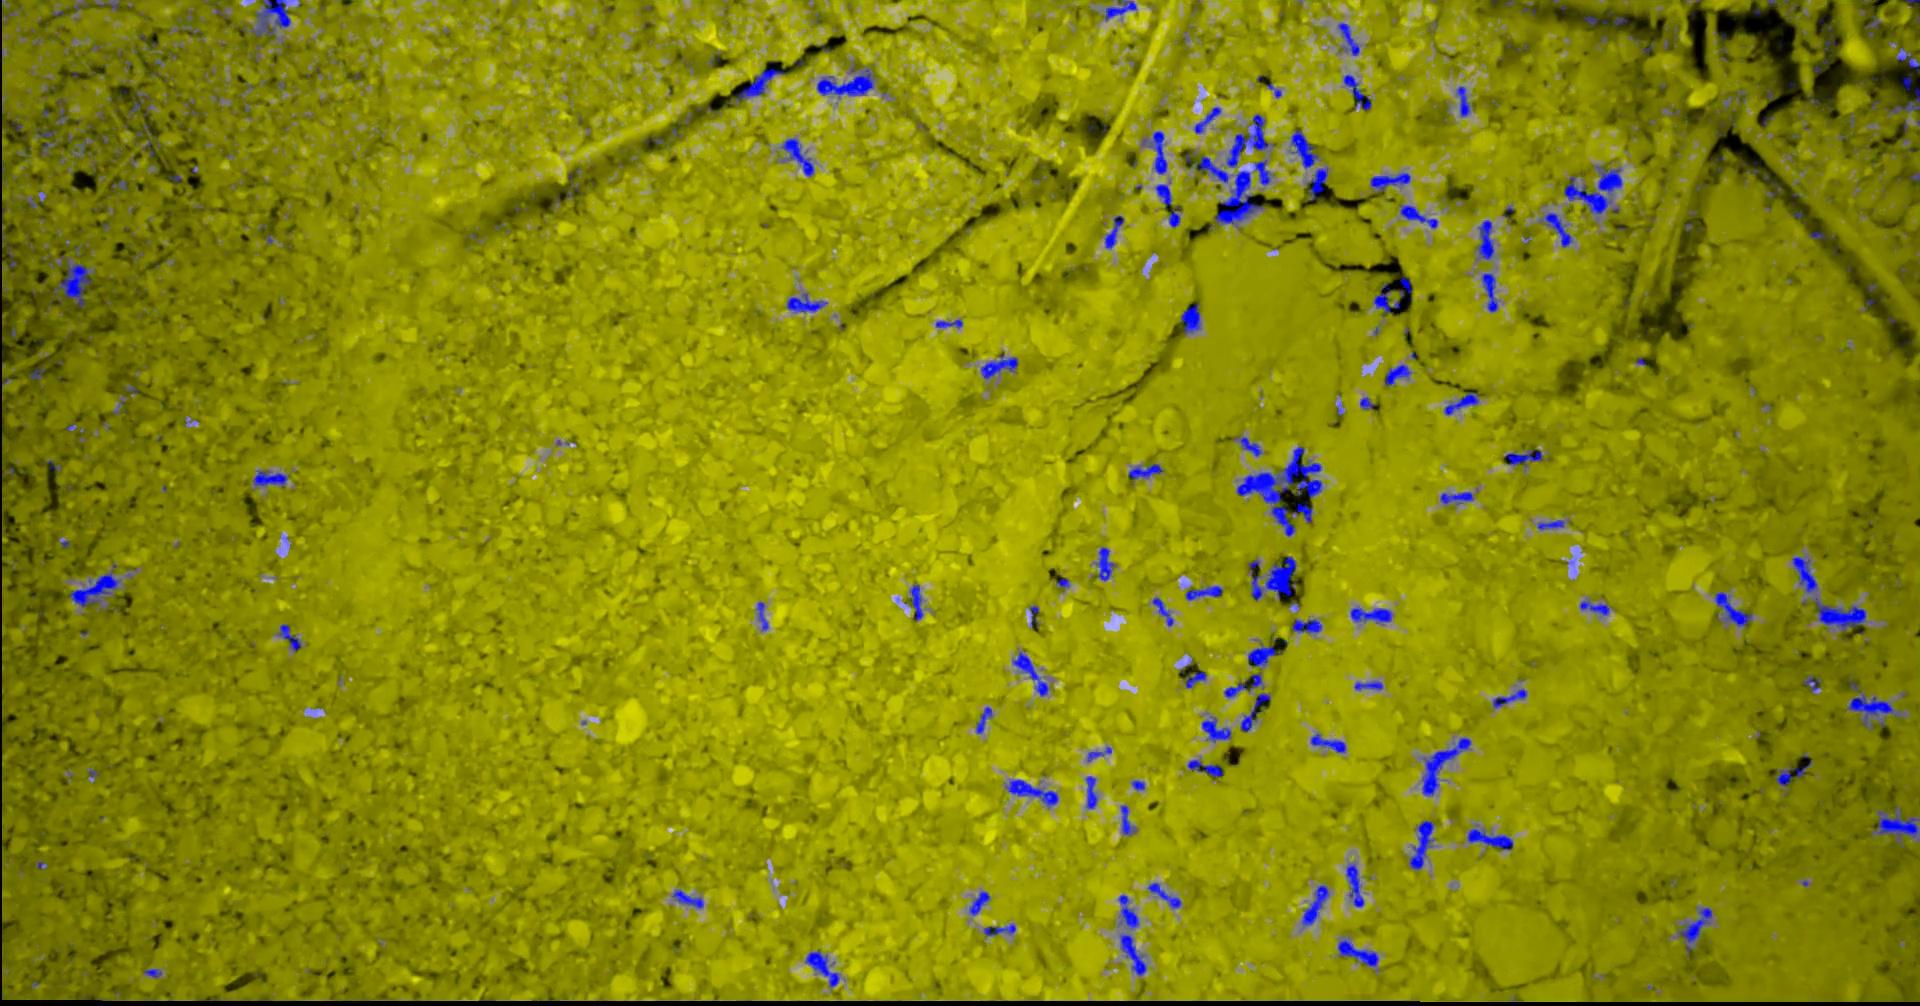ant: (1423, 737, 1472, 795), (1217, 170, 1265, 224), (1228, 114, 1276, 166), (735, 61, 787, 103), (1250, 555, 1297, 600), (1848, 691, 1902, 728), (55, 255, 93, 307), (70, 569, 122, 607), (1876, 807, 1920, 846), (1816, 597, 1867, 631), (818, 69, 875, 97), (1015, 652, 1050, 696), (1680, 907, 1713, 953), (1884, 72, 1920, 114), (1007, 779, 1060, 807), (1241, 688, 1272, 730), (257, 0, 292, 37), (1716, 591, 1752, 626), (1186, 152, 1230, 182), (806, 950, 841, 987), (1410, 821, 1435, 869), (1338, 937, 1380, 967), (783, 138, 815, 177), (1542, 212, 1575, 246), (1143, 130, 1168, 174), (1121, 934, 1148, 976), (1291, 130, 1321, 168), (1469, 826, 1514, 850), (1303, 885, 1330, 925), (1345, 74, 1373, 111), (1250, 636, 1284, 666), (1777, 760, 1813, 786), (1225, 672, 1263, 697), (982, 353, 1018, 379), (1793, 556, 1818, 593), (1149, 882, 1183, 908), (1401, 205, 1439, 227), (1445, 391, 1481, 414), (1203, 715, 1232, 742), (1375, 282, 1401, 312), (789, 293, 829, 312), (1338, 22, 1361, 55), (1371, 171, 1411, 191), (1505, 448, 1544, 467), (1119, 894, 1140, 929), (1349, 862, 1365, 907), (1308, 166, 1330, 199), (1195, 107, 1222, 133), (279, 622, 303, 652), (557, 171, 580, 202), (905, 584, 924, 620), (1312, 733, 1347, 752), (1478, 218, 1495, 259), (1106, 0, 1138, 20), (254, 469, 290, 486), (37, 127, 58, 156), (1106, 215, 1125, 248), (1097, 547, 1116, 580), (1495, 688, 1528, 708), (1352, 607, 1393, 622), (1189, 760, 1225, 776), (673, 889, 705, 908), (130, 89, 151, 117), (1182, 304, 1203, 333), (1154, 597, 1175, 626), (1483, 273, 1498, 311), (1385, 365, 1413, 385), (1897, 47, 1920, 71), (1187, 586, 1224, 600), (1129, 464, 1164, 478), (970, 890, 990, 915), (1458, 86, 1474, 116), (1241, 436, 1263, 456), (1581, 600, 1611, 615), (1256, 159, 1272, 185), (977, 706, 993, 733), (1441, 492, 1476, 504), (1293, 619, 1323, 633), (1123, 804, 1137, 835), (1294, 502, 1314, 522), (1157, 184, 1173, 207), (1087, 775, 1098, 808), (1088, 746, 1112, 761), (985, 923, 1017, 935), (1186, 671, 1208, 687), (758, 601, 770, 630), (1865, 15, 1881, 37), (1825, 25, 1837, 51), (1170, 205, 1183, 227), (57, 98, 69, 124), (1401, 277, 1413, 300), (1804, 674, 1822, 690), (1356, 681, 1384, 690), (1539, 520, 1566, 528), (1585, 15, 1609, 24), (112, 179, 130, 191), (937, 319, 964, 326), (1031, 605, 1040, 627), (30, 366, 44, 379), (1057, 574, 1070, 587), (1361, 398, 1375, 409), (145, 968, 163, 977), (1133, 780, 1145, 790)
